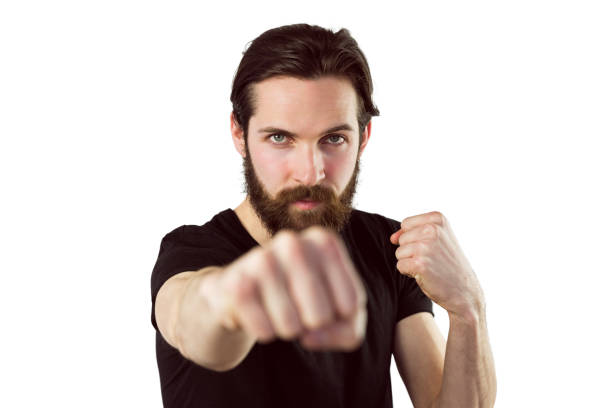Yes: (196, 219, 371, 359)
